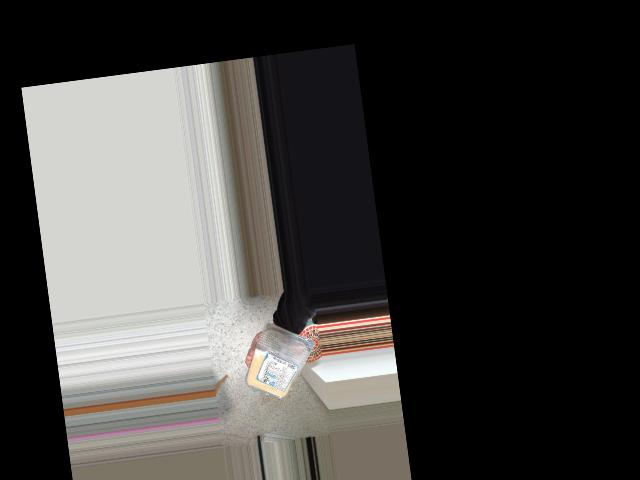cheese: (244, 325, 315, 404)
